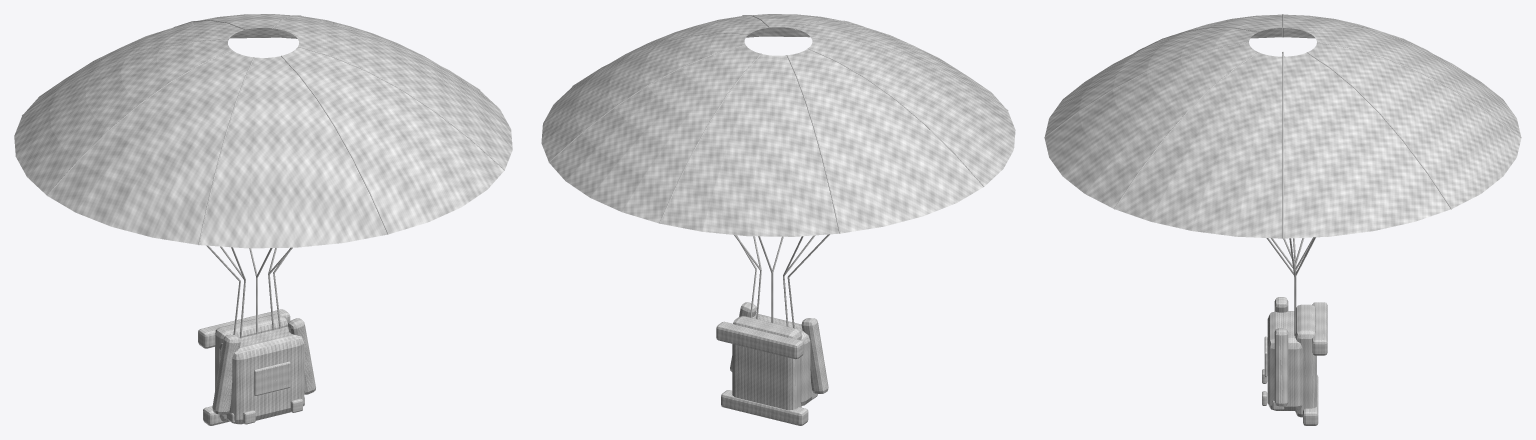
The model's file is parachute_variant_a.glb.
3 renders of one model, left to right at view 1: azimuth 30°, elevation 25°; view 2: azimuth 150°, elevation 25°; view 3: azimuth 270°, elevation 25°, orthographic. The views are drawn at different scales.
Parts seen in each view (by area): view 1: DEPLOYED_CANOPY_round, Fabric pack body, Shoulder strap, Dorsal mounting plate, Inspection panel, Shoulder strap.001, Upper harness yoke; view 2: DEPLOYED_CANOPY_round, Dorsal mounting plate, Upper harness yoke, Waist belt, Shoulder strap, Fabric pack body; view 3: DEPLOYED_CANOPY_round, Fabric pack body, Dorsal mounting plate, Shoulder strap.001, Upper harness yoke.
Boxes of the visible parts, x1,y1,x2,y2 form: DEPLOYED_CANOPY_round: (14,14,512,248); Fabric pack body: (219,327,304,424); Shoulder strap: (212,335,240,414); Dorsal mounting plate: (215,314,287,421); Inspection panel: (254,361,290,395); Shoulder strap.001: (288,318,315,394); Upper harness yoke: (198,309,290,348); DEPLOYED_CANOPY_round: (541,14,1015,236); Dorsal mounting plate: (732,316,801,410); Upper harness yoke: (716,321,803,359); Waist belt: (721,390,808,425); Shoulder strap: (801,318,828,393); Fabric pack body: (752,313,812,405); DEPLOYED_CANOPY_round: (1044,14,1521,238); Fabric pack body: (1267,311,1302,410); Dorsal mounting plate: (1295,304,1316,417); Shoulder strap.001: (1274,328,1288,406); Upper harness yoke: (1312,302,1327,355).
Size of what is drawn, in the model's own units: 3.11 by 2.62 by 3.11.
8 materials, 8 textured.
